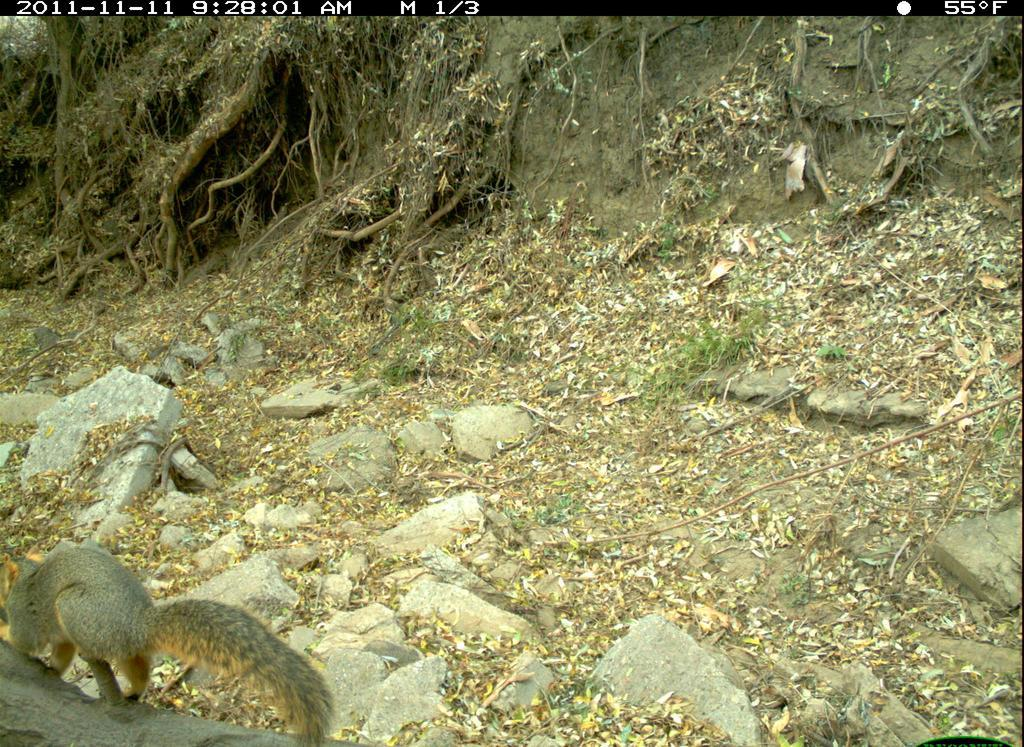squirrel: (1, 529, 338, 745)
